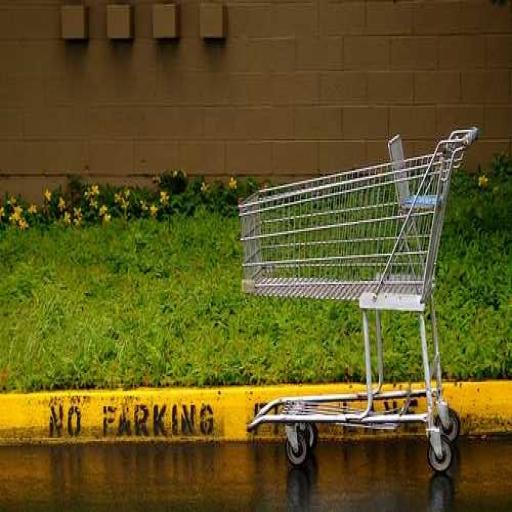shopping_cart: (235, 124, 481, 472)
